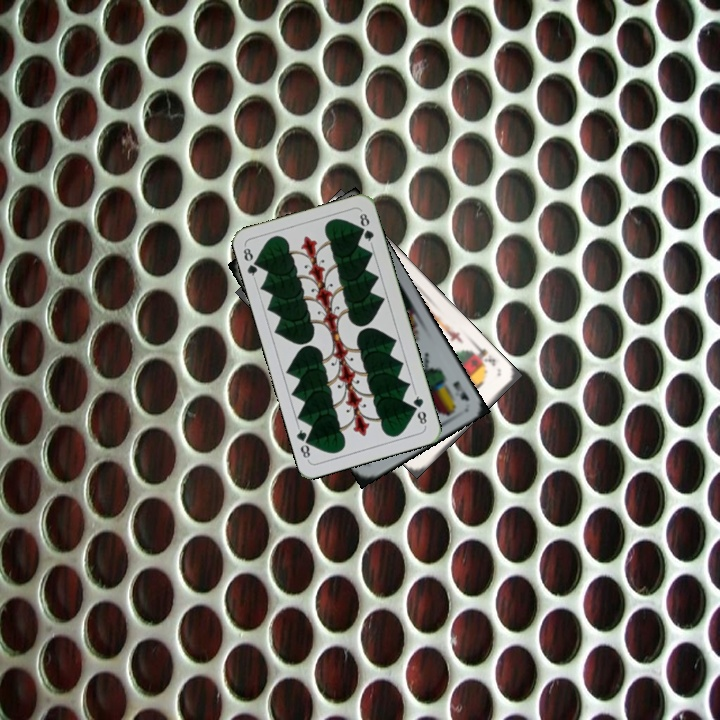EK: (448, 377, 472, 403)
G8: (239, 244, 263, 282), (409, 389, 429, 429)
SK: (467, 342, 498, 369)
